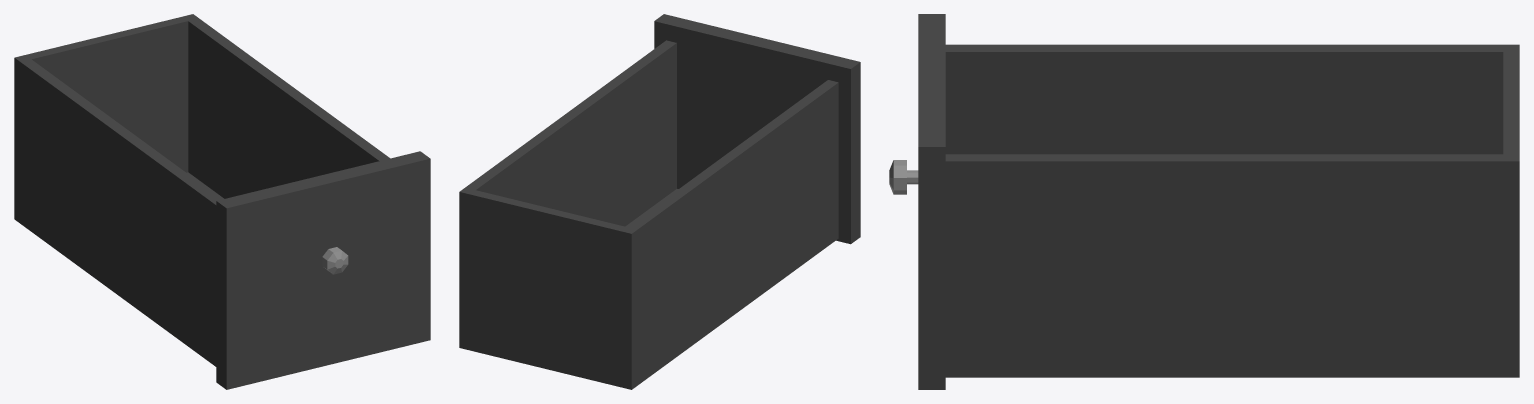
Rendered from Door3_C3_07.fbx.
3 renders of one model, left to right at view 1: azimuth 30°, elevation 25°; view 2: azimuth 150°, elevation 25°; view 3: azimuth 270°, elevation 25°, orthographic. The views are drawn at different scales.
Visible parts, largest first — view 1: Door3_C3_07; view 2: Door3_C3_07; view 3: Door3_C3_07.
Part boxes in pixels (<box>): Door3_C3_07: <box>14,14,430,389</box>; Door3_C3_07: <box>459,14,860,389</box>; Door3_C3_07: <box>889,14,1519,389</box>.
Size of the model in its own units: 29 by 24.68 by 58.03.
